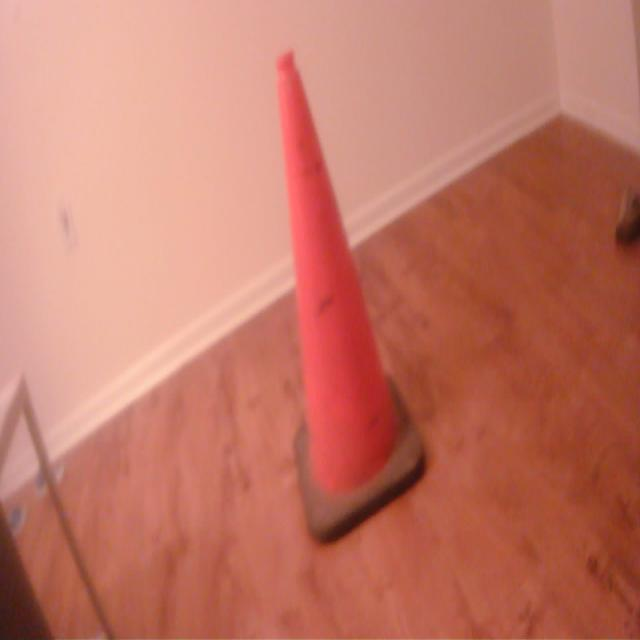traffic cone: (274, 42, 436, 557)
